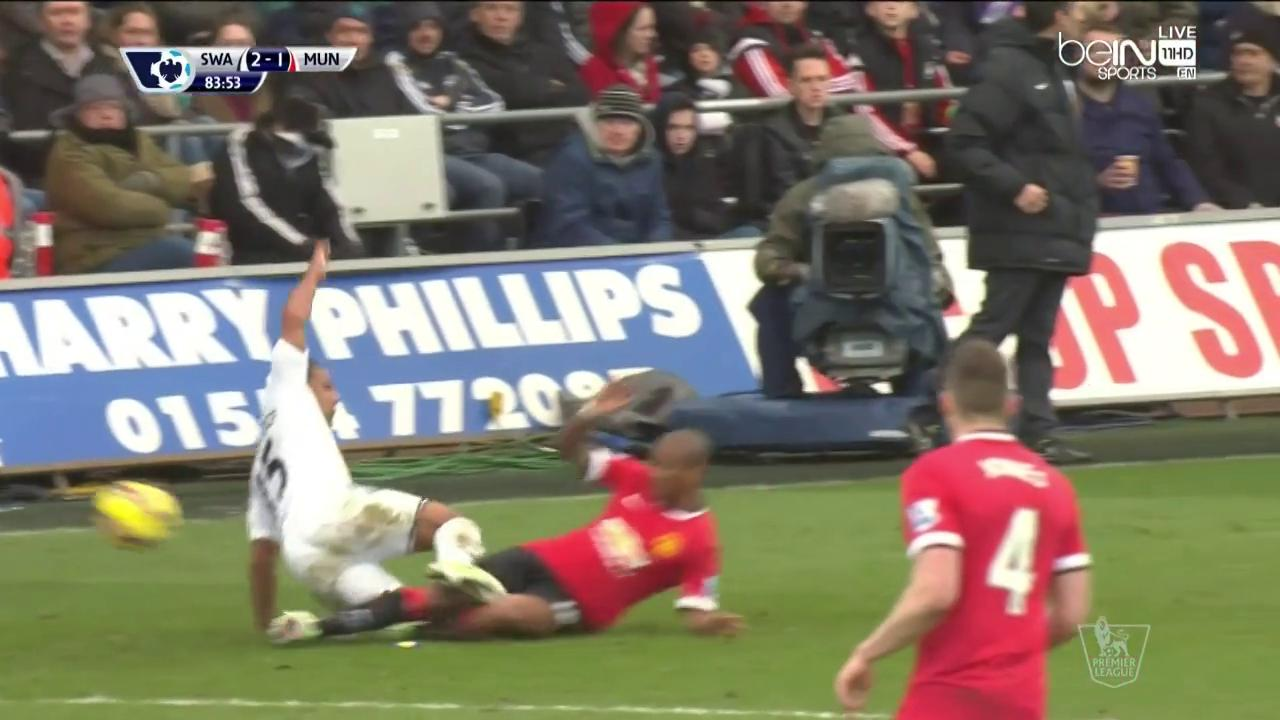football: (96, 483, 183, 549)
